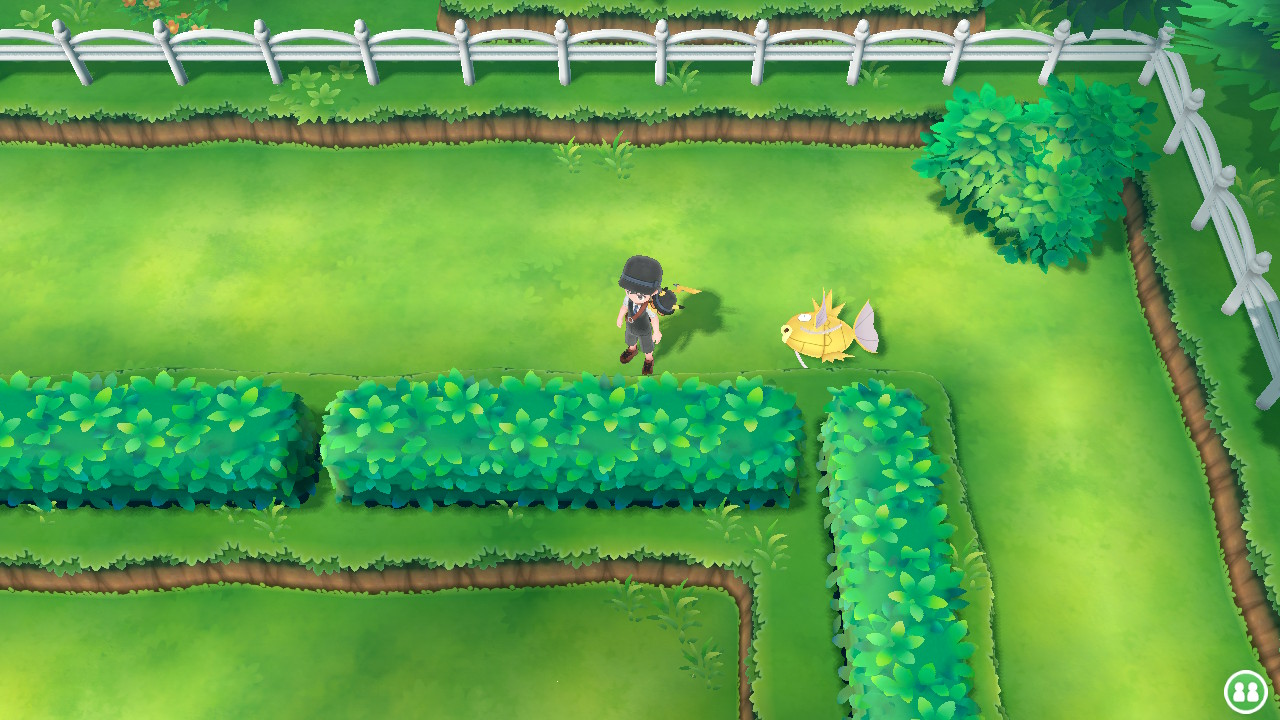Golden: (778, 288, 883, 367)
